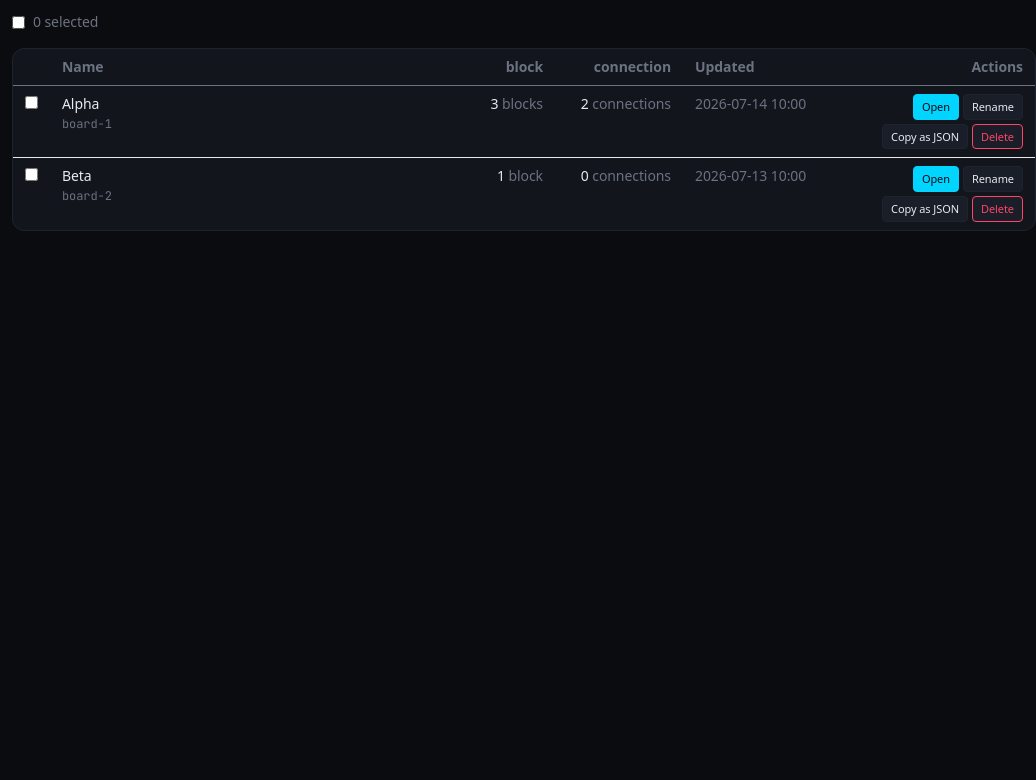
Test: BoardListView — bulk actions › shows the bulk bar after a single checkbox is checked
Expected: the text "Alpha" is shown, [62,94,99,113]
Click the checkbox named "Select this board" next to "Alpha" at (32, 102), box [25,96,38,109]
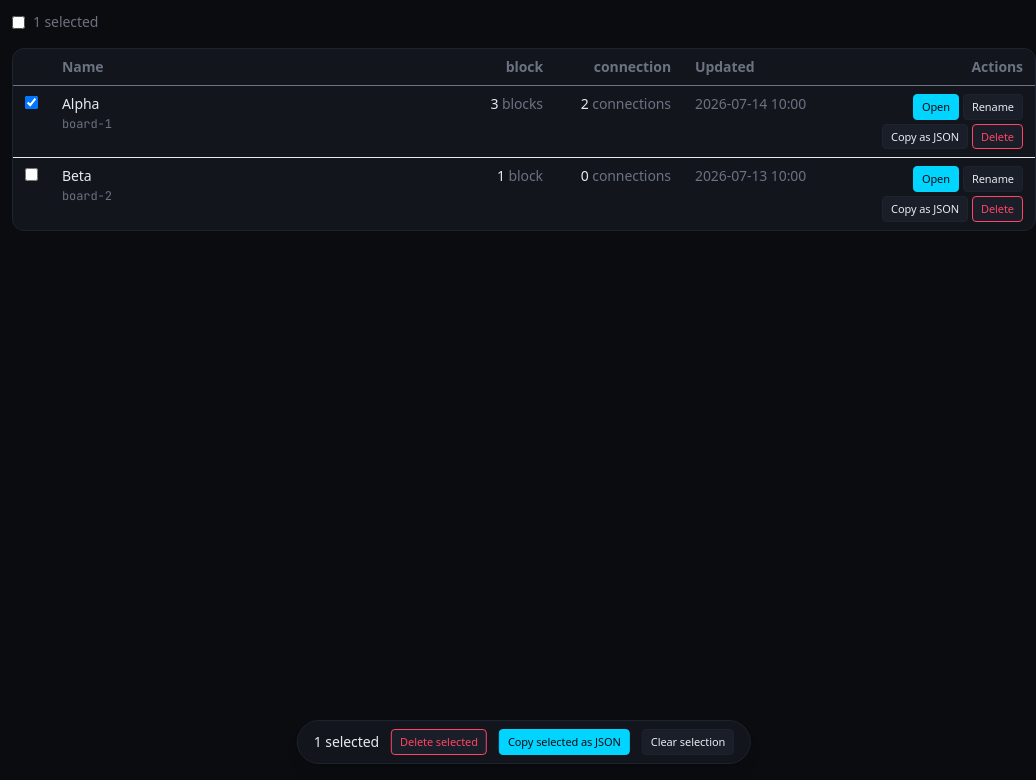
Now the element "1 selected" is shown, box [297,720,751,764]
